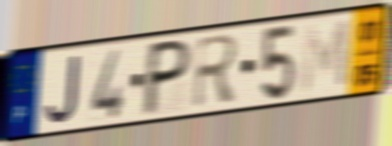4: (89, 46, 126, 121)
5: (258, 21, 297, 104)
J: (44, 52, 82, 126)
M: (299, 17, 352, 98)
P: (139, 36, 195, 119)
R: (191, 31, 241, 112)
